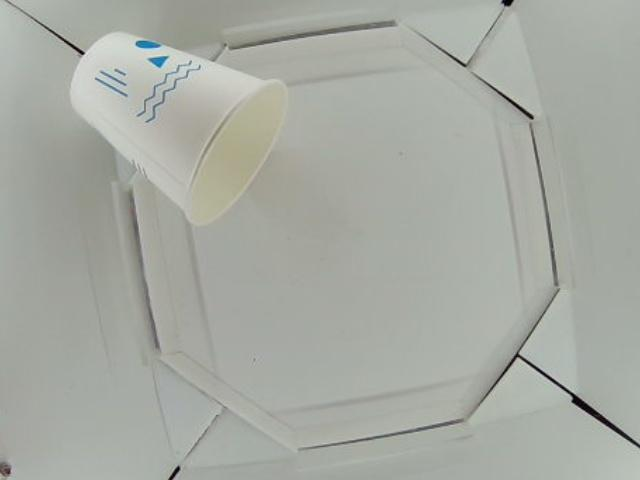Cup: (69, 31, 288, 227)
